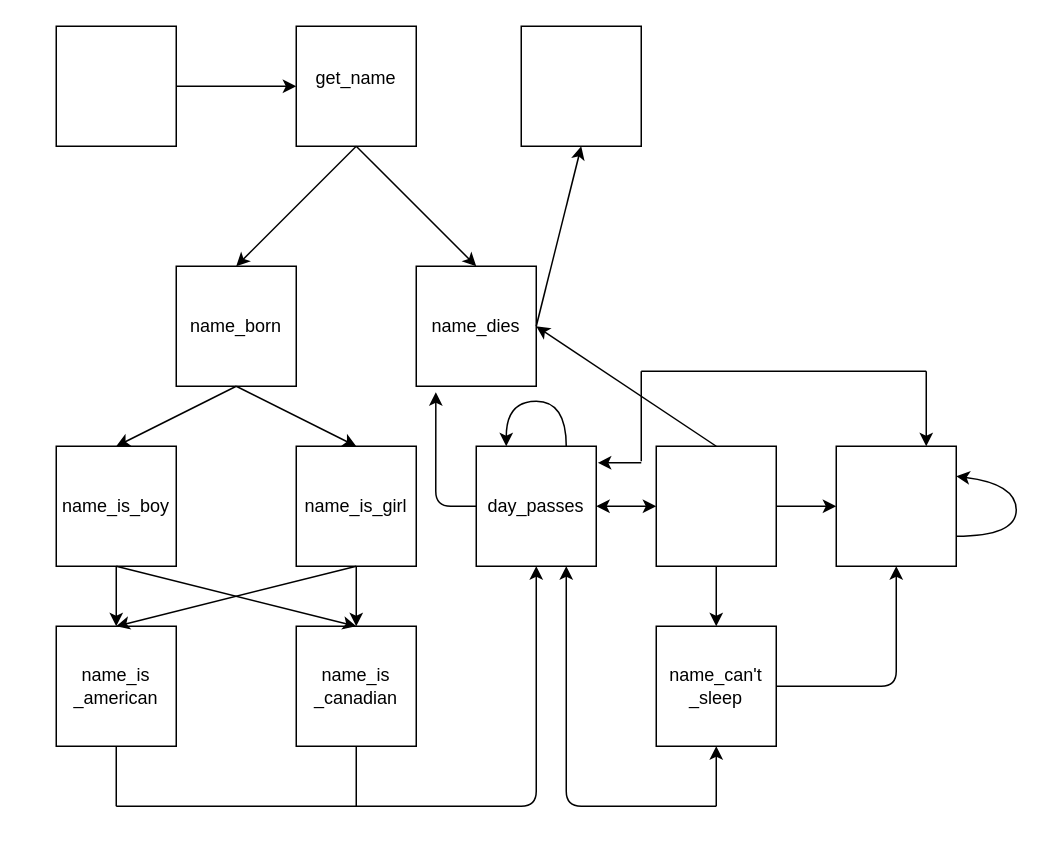
Image size: 1043x845. Some labels were removed from this diagram. The shapes that lost their labels are listed below. From the top down, each one's centre as x and y in pixels, then its label:
the point at 115,85: root (first event of simulation)
the point at 580,85: end (last event of simulation)
the point at 715,505: name_gets _sick
the point at 895,505: name_cries
